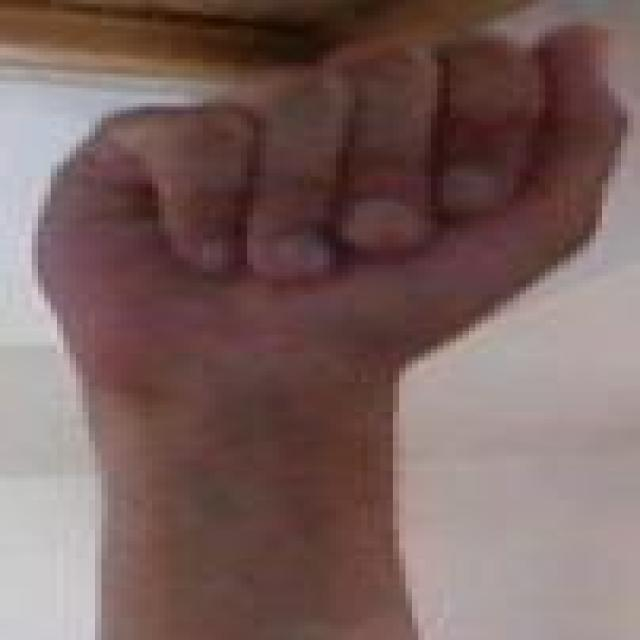A: (24, 16, 637, 361)
